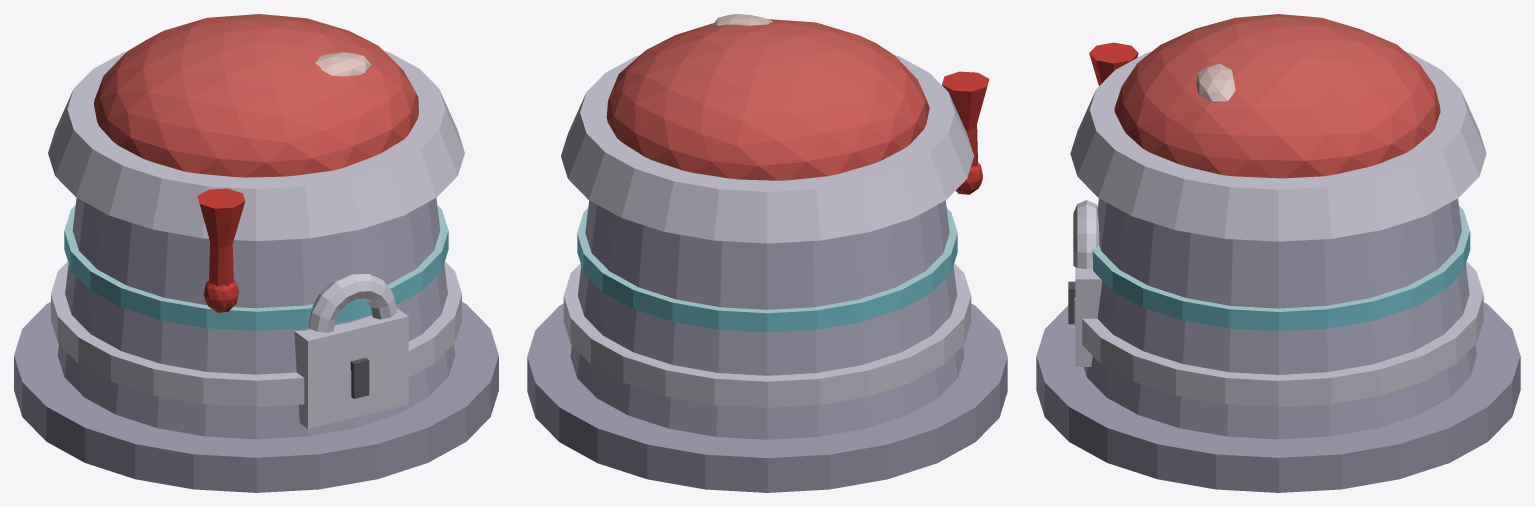
File: goo_lock_button@space.fbx
The picture shows the model from 3 angles, left to right: view 1: azimuth 30°, elevation 25°; view 2: azimuth 150°, elevation 25°; view 3: azimuth 270°, elevation 25°; orthographic projection.
Parts seen in each view (by area): view 1: goo_lock_button; view 2: goo_lock_button; view 3: goo_lock_button.
Boxes of the visible parts, x1,y1,x2,y2 form: goo_lock_button: (14,14,498,492); goo_lock_button: (527,14,1007,492); goo_lock_button: (1036,14,1520,492).
Size of the model in its own units: 5 by 3.97 by 5.
